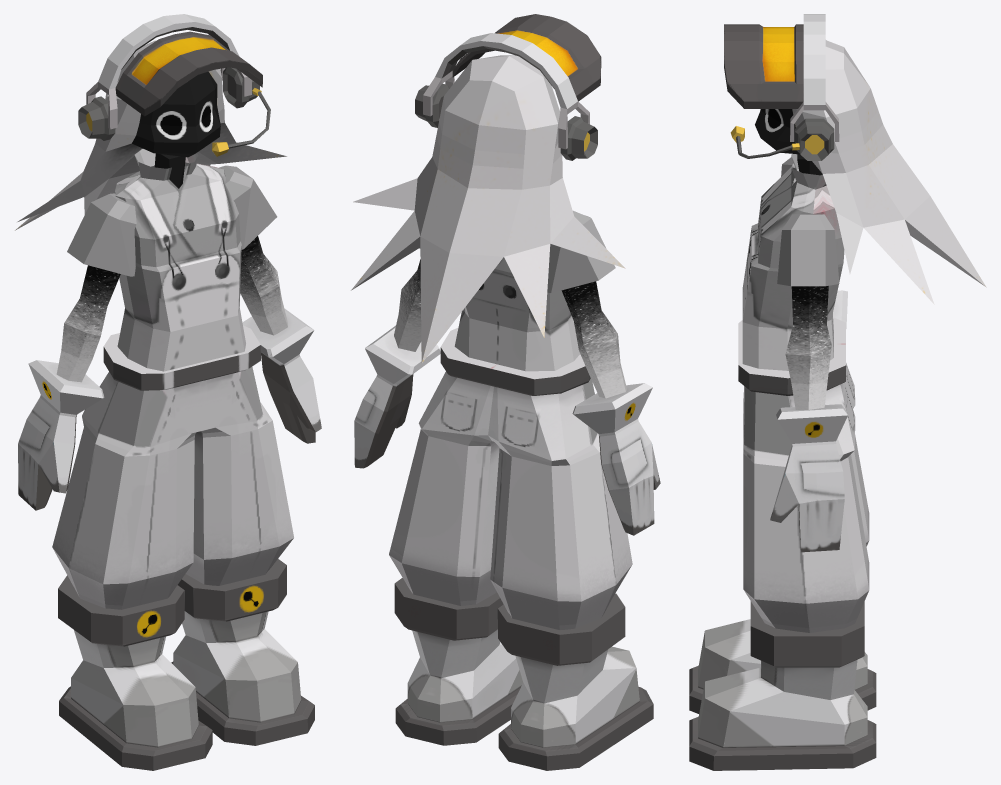
Rendered from Morgan.fbx.
The picture shows the model from 3 angles, left to right: view 1: azimuth 30°, elevation 25°; view 2: azimuth 150°, elevation 25°; view 3: azimuth 270°, elevation 25°; orthographic projection. The views are drawn at different scales.
Visible parts, largest first — view 1: Pants, Das Boot, Face + Hair, Torso, Glove, ARM, Sleeve, Neck; view 2: Pants, Face + Hair, Das Boot, Glove, Torso, ARM, Sleeve; view 3: Face + Hair, Das Boot, Pants, Torso, Glove, ARM, Sleeve.
Boxes of the visible parts, x1,y1,x2,y2 form: Pants: [52, 325, 293, 609]; Das Boot: [58, 559, 314, 770]; Face + Hair: [15, 14, 286, 230]; Torso: [114, 149, 245, 371]; Glove: [18, 308, 321, 510]; ARM: [56, 236, 287, 382]; Sleeve: [67, 165, 277, 276]; Neck: [154, 153, 185, 188]; Pants: [389, 328, 632, 629]; Face + Hair: [351, 14, 625, 363]; Das Boot: [394, 578, 653, 770]; Glove: [354, 325, 660, 535]; Torso: [454, 257, 580, 371]; ARM: [394, 259, 626, 398]; Sleeve: [419, 210, 615, 292]; Face + Hair: [724, 14, 986, 304]; Das Boot: [689, 601, 876, 770]; Pants: [738, 317, 869, 632]; Torso: [742, 154, 844, 370]; Glove: [770, 290, 847, 552]; ARM: [785, 286, 831, 409]; Sleeve: [777, 157, 839, 286].
Size of the model in its own units: 90.85 by 213 by 81.93.
Materials: 1 (1 with a texture image).
